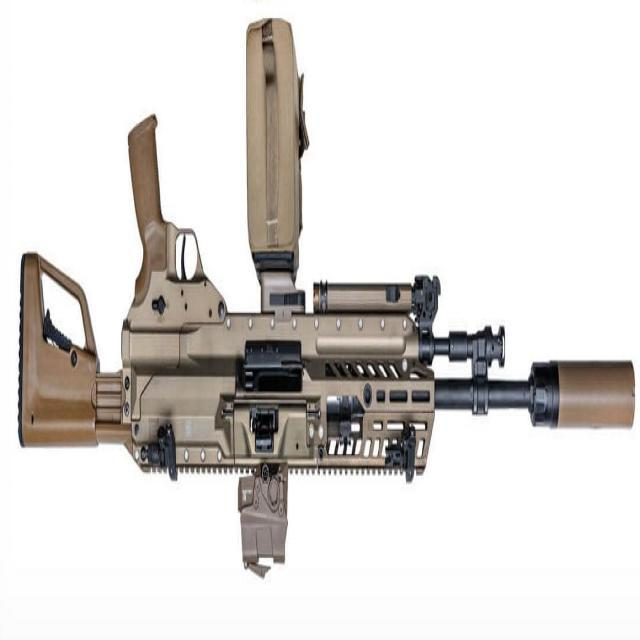weapon: (17, 17, 636, 586)
